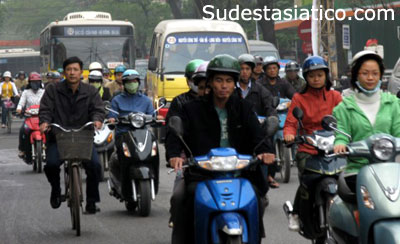helmet: (207, 55, 239, 78), (301, 55, 327, 72), (116, 68, 141, 82), (236, 52, 255, 66), (263, 55, 282, 65)
